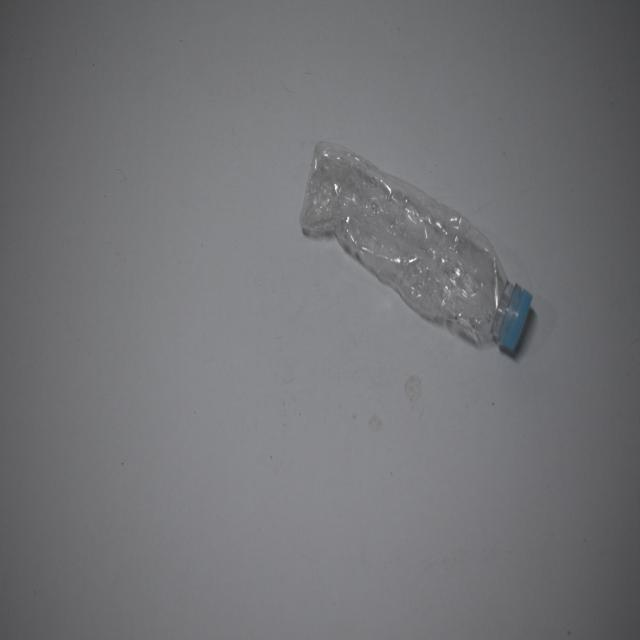bottle: (296, 133, 536, 365)
